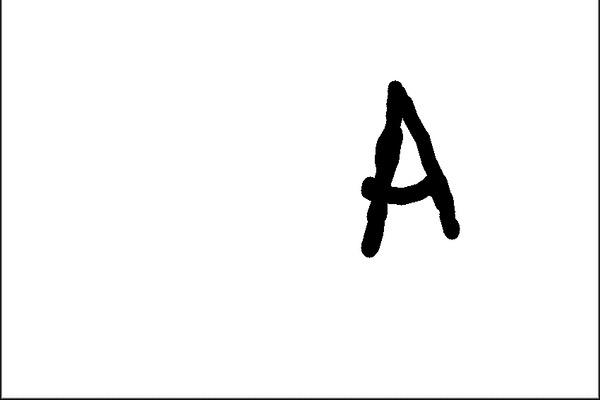A: (338, 71, 468, 259)
